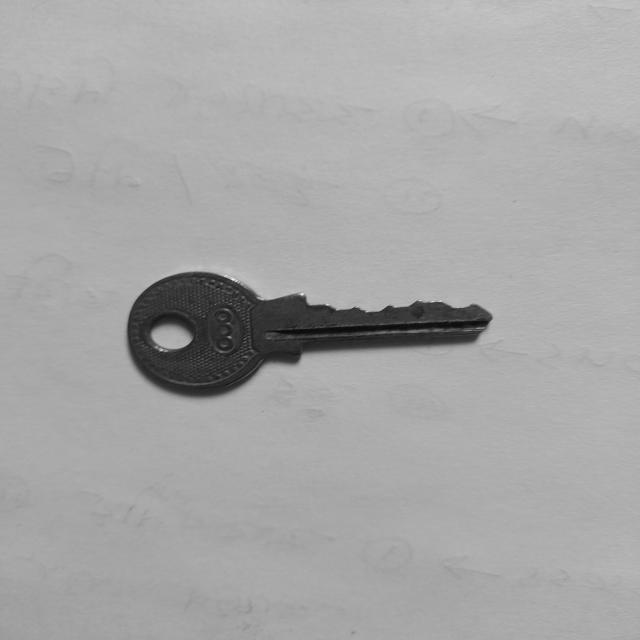key: (127, 272, 492, 388)
